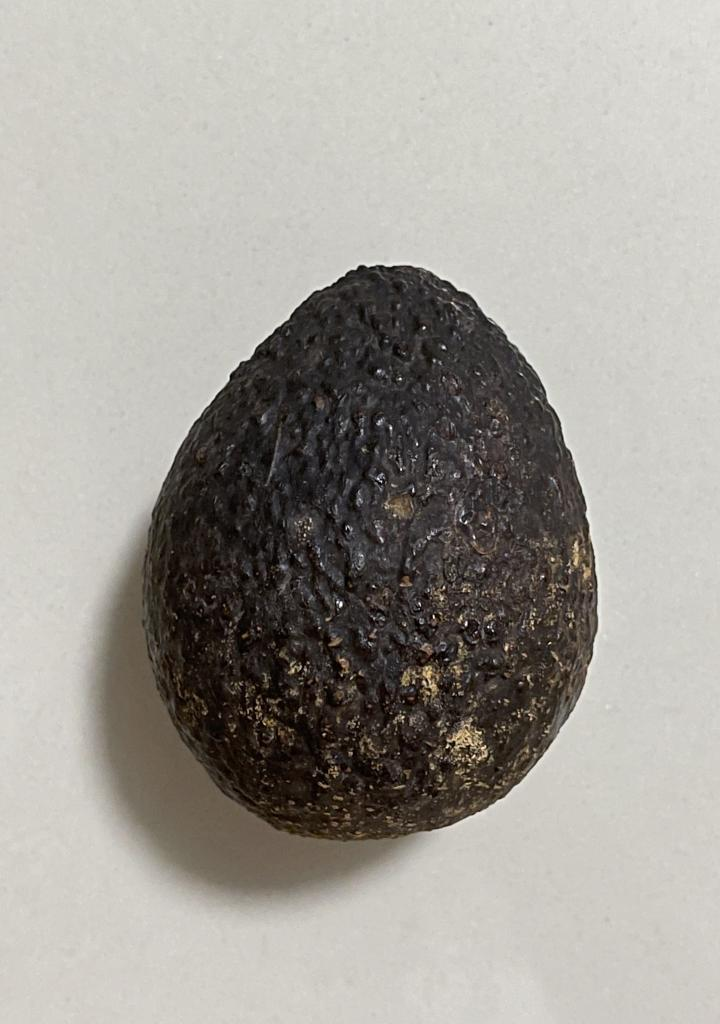Level3: (131, 244, 610, 851)
